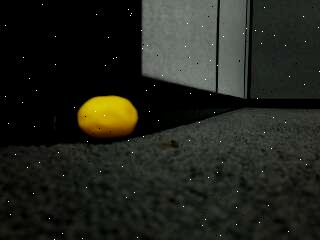Lemon: (76, 96, 140, 142)
